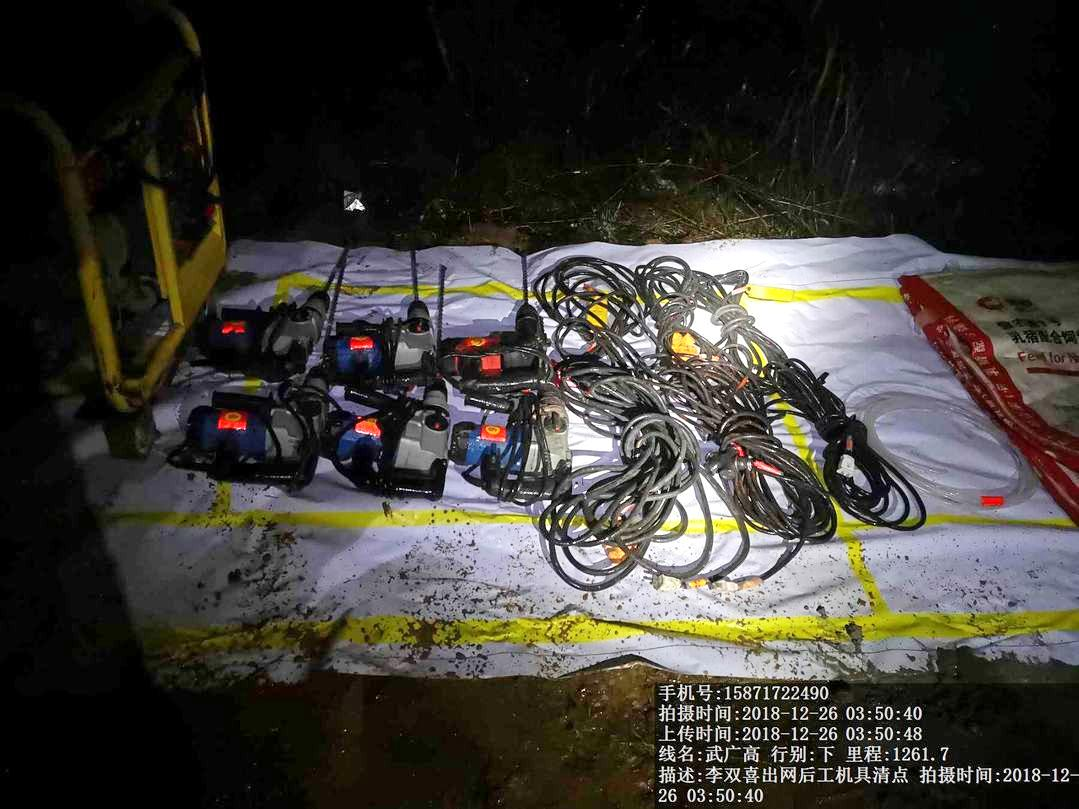DX: (571, 368, 703, 566)
DZ: (165, 383, 322, 498), (330, 386, 459, 507), (456, 384, 574, 501), (195, 293, 325, 382), (328, 299, 445, 385), (447, 301, 554, 385)
SG: (866, 362, 1038, 517)
